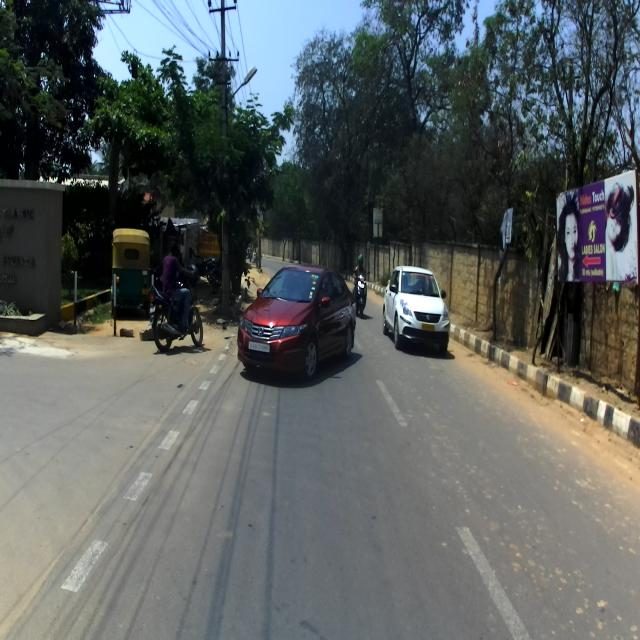car ahead at: (242, 253, 356, 388), (384, 262, 451, 350)
